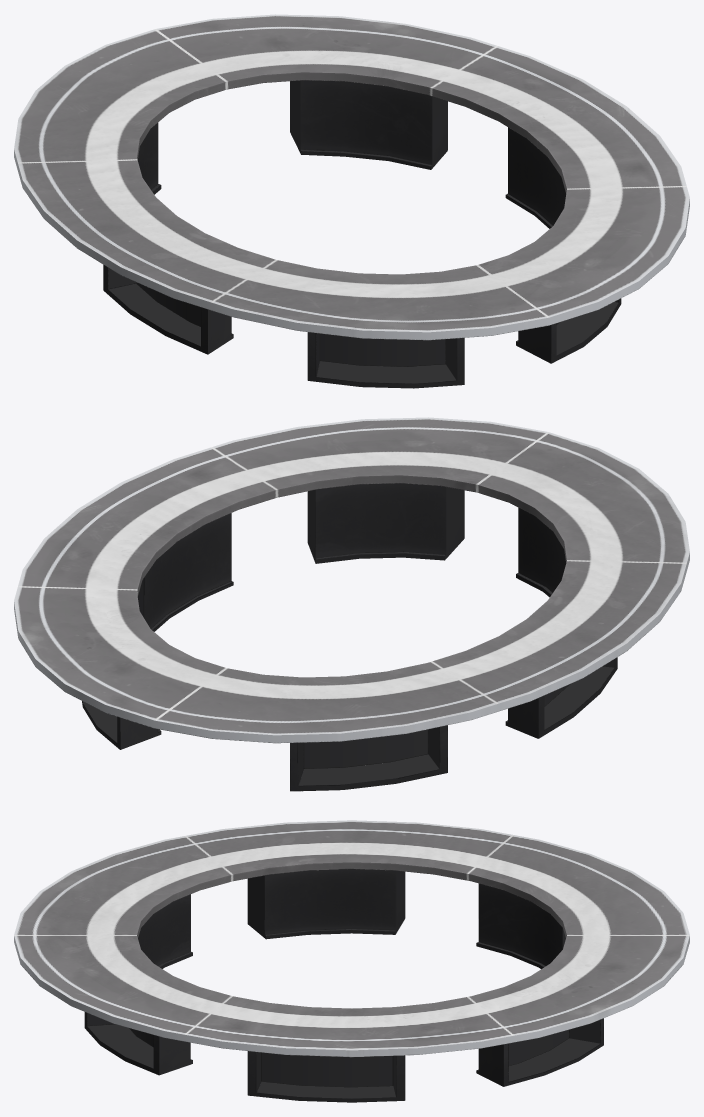
File: Table.fbx
3 views of the same model, one above another, from view 1: azimuth 30°, elevation 25°; view 2: azimuth 150°, elevation 25°; view 3: azimuth 270°, elevation 25° (orthographic). The views are drawn at different scales.
Visible parts, largest first — view 1: Circle; view 2: Circle; view 3: Circle.
Part boxes in pixels (<box>): Circle: <box>14,14,689,388</box>; Circle: <box>14,417,689,791</box>; Circle: <box>14,820,689,1102</box>.
Size of the model in its own units: 216 by 32.84 by 268.
2 materials, 2 textured.
